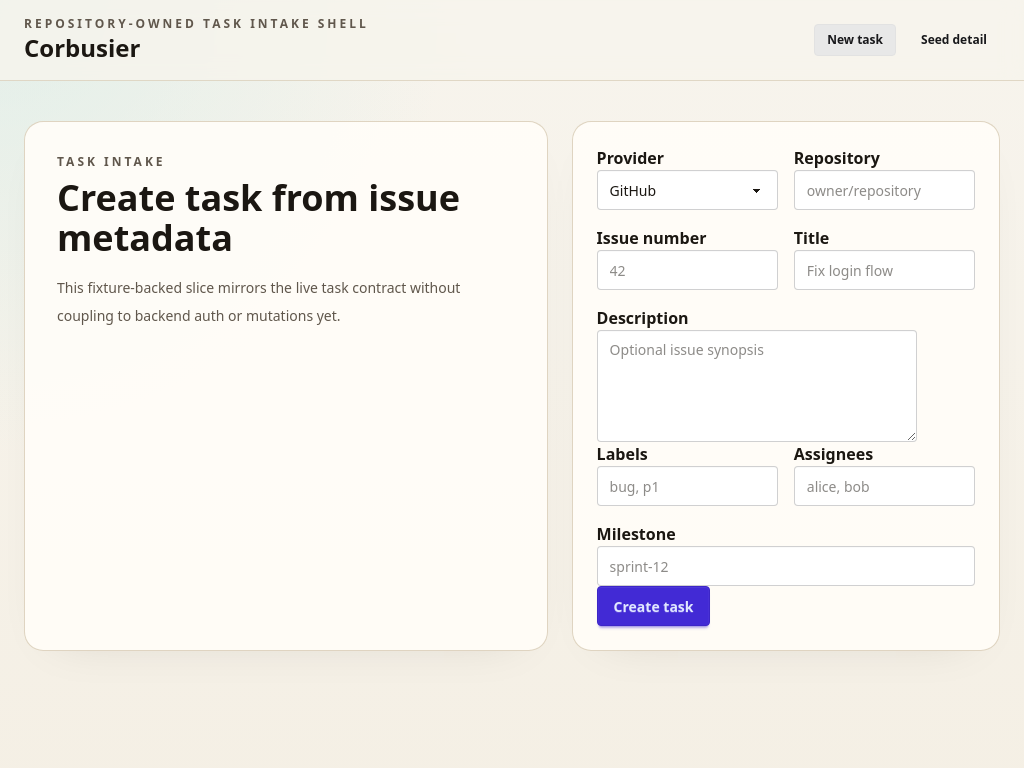
task routes › shows validation feedback for invalid task creation
Click the button "Create task": coordinates (654, 606) [597,586,710,626]
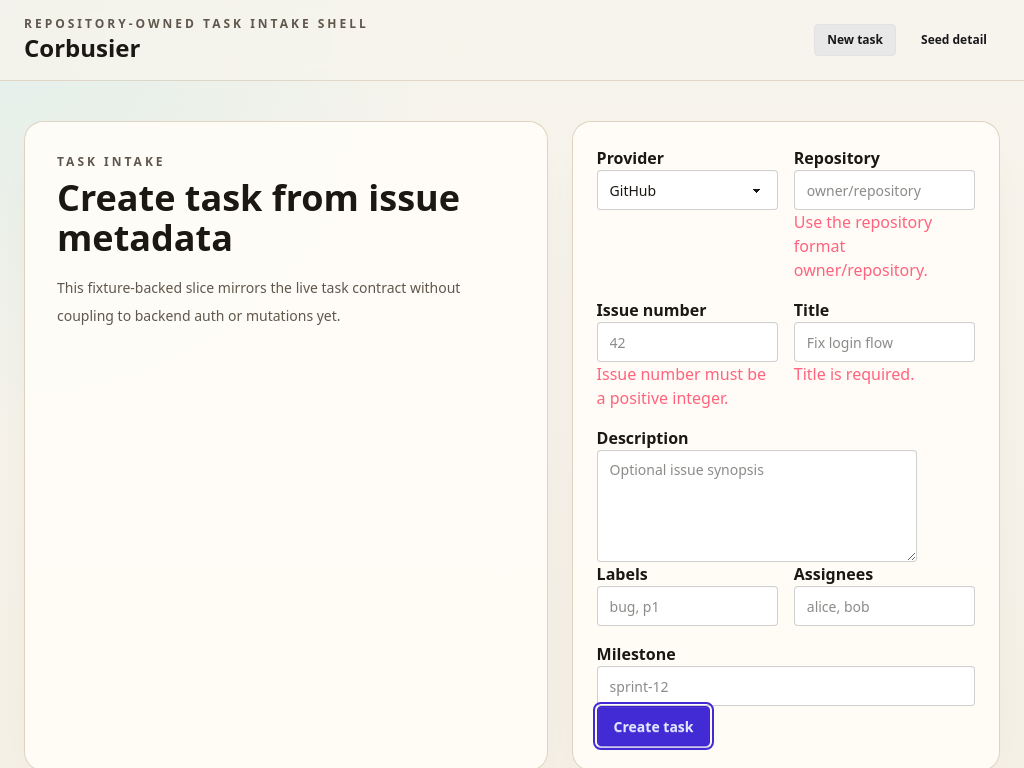
Now the text "Use the repository format owner/repository." is shown, box [794,211,932,281]
Now the text "Issue number must be a positive integer." is shown, box [597,363,766,409]
Now the text "Title is required." is shown, box [794,363,914,385]
